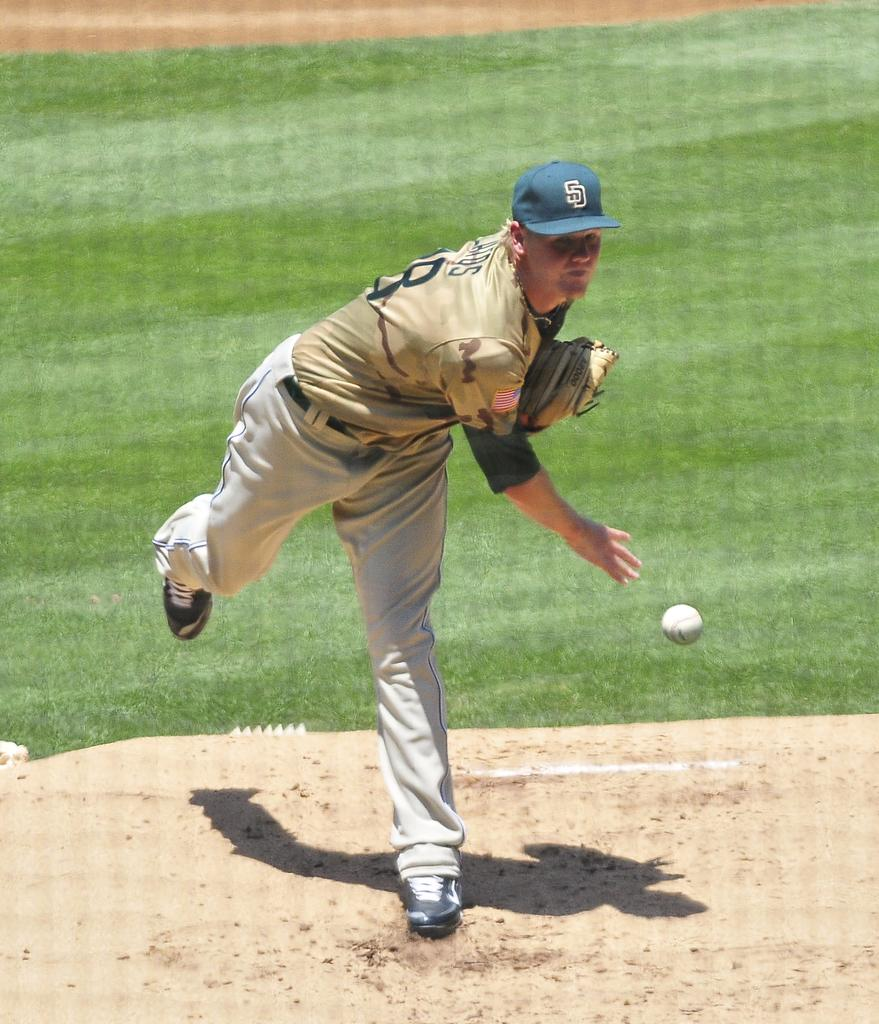Hat: (515, 151, 621, 240)
